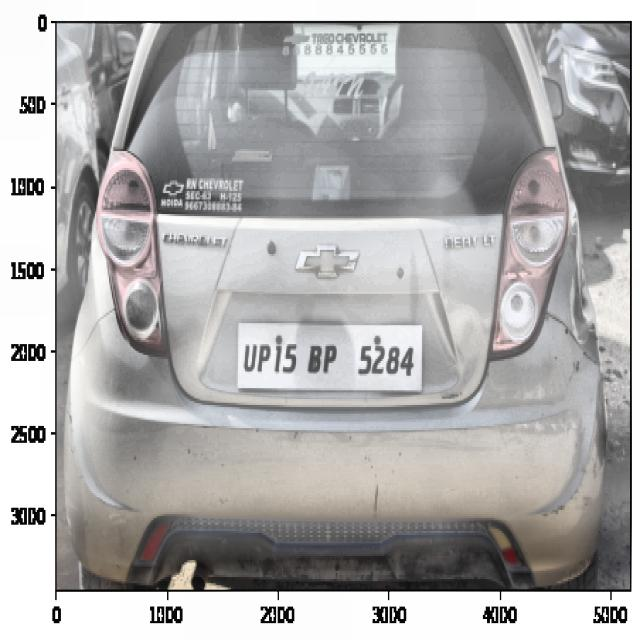license_plate: (237, 324, 419, 393)
